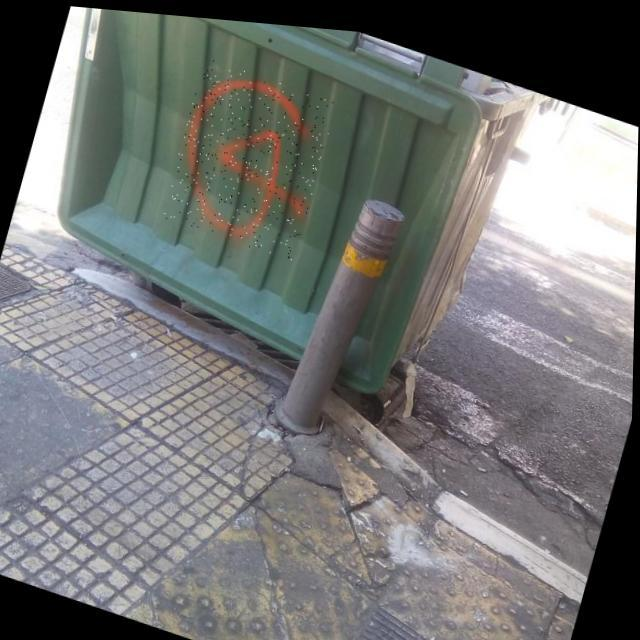-: (160, 50, 338, 258)
